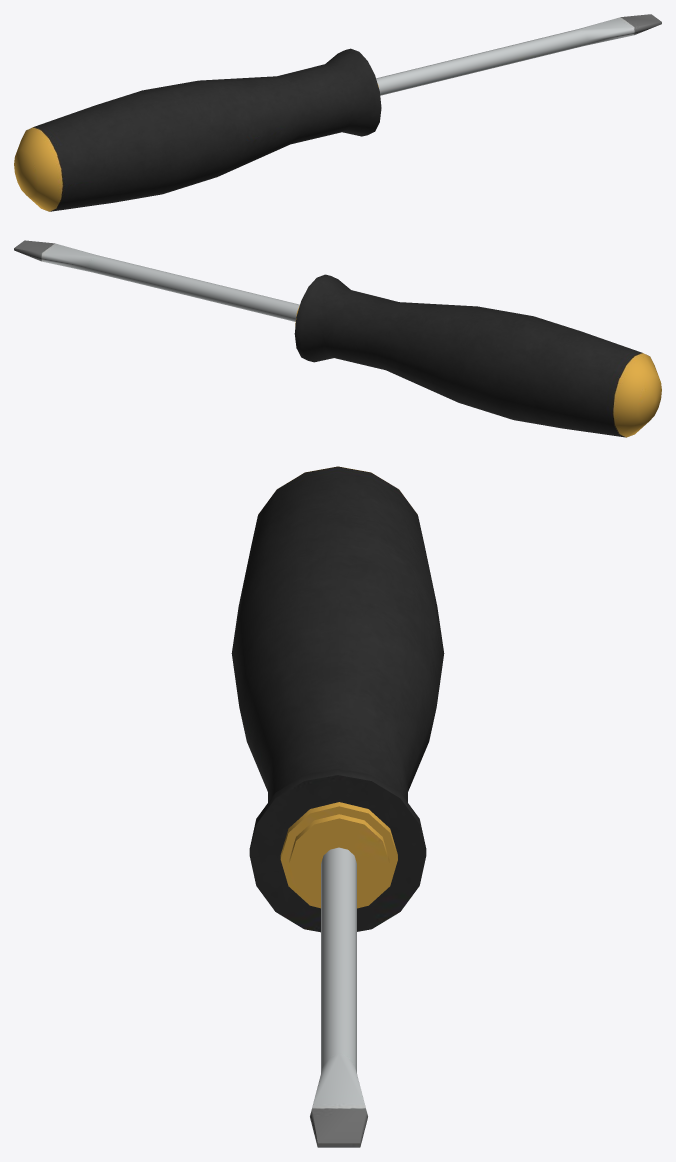
File: tool_turn_screw_03.glb
3 renders of one model, top to bottom at view 1: azimuth 30°, elevation 25°; view 2: azimuth 150°, elevation 25°; view 3: azimuth 270°, elevation 25°, orthographic. The views are drawn at different scales.
Visible parts, largest first — view 1: tool_turn_screw_03; view 2: tool_turn_screw_03; view 3: tool_turn_screw_03.
Part boxes in pixels (<box>): tool_turn_screw_03: <box>14,14,661,211</box>; tool_turn_screw_03: <box>14,240,661,437</box>; tool_turn_screw_03: <box>231,466,444,1147</box>.
Size of the model in its own units: 0.2475 by 0.0358 by 0.0358.
Materials: 1 (1 with a texture image).
